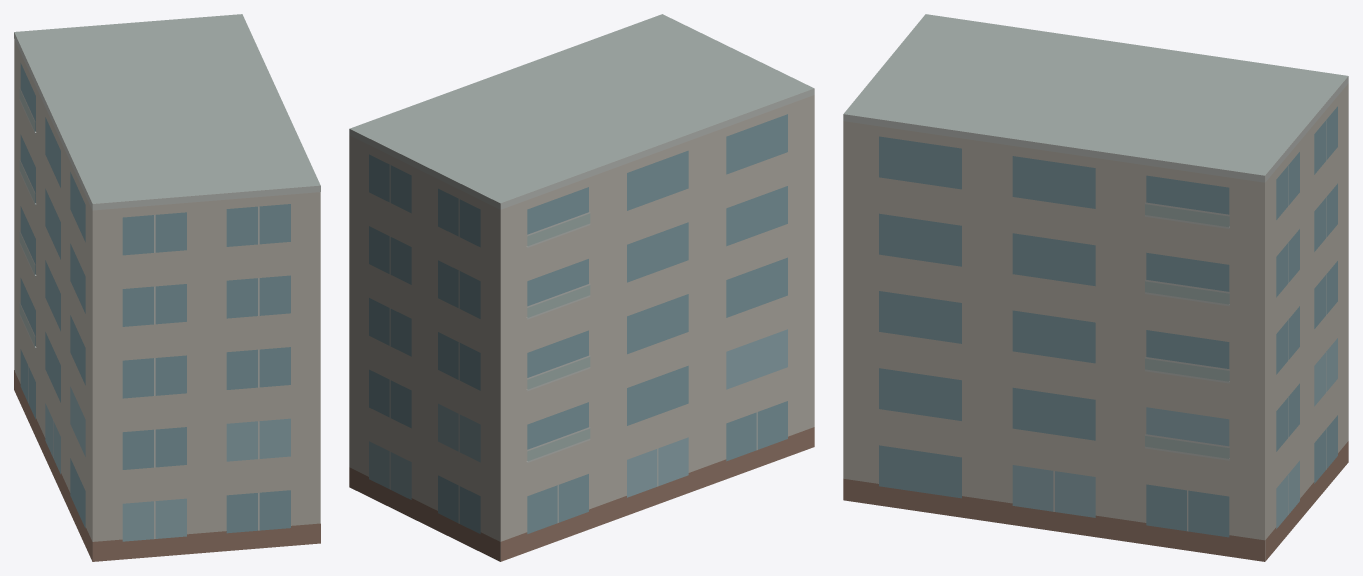
Rendered from survey-upis-32849548.glb.
The picture shows the model from 3 angles, left to right: view 1: azimuth 30°, elevation 25°; view 2: azimuth 150°, elevation 25°; view 3: azimuth 270°, elevation 25°; orthographic projection. The views are drawn at different scales.
Visible parts, largest first — view 1: survey-upis-32849548.tmp; view 2: survey-upis-32849548.tmp; view 3: survey-upis-32849548.tmp.
Boxes of the visible parts, <box> form: survey-upis-32849548.tmp: <box>14,14,320,561</box>; survey-upis-32849548.tmp: <box>349,14,814,561</box>; survey-upis-32849548.tmp: <box>843,14,1348,561</box>.
Size of the model in its own units: 12.13 by 13.5 by 16.02.
